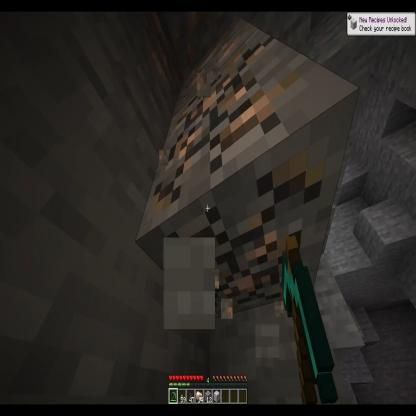iron ore: (137, 32, 343, 322), (170, 19, 261, 116), (162, 0, 242, 79), (141, 6, 186, 111)
